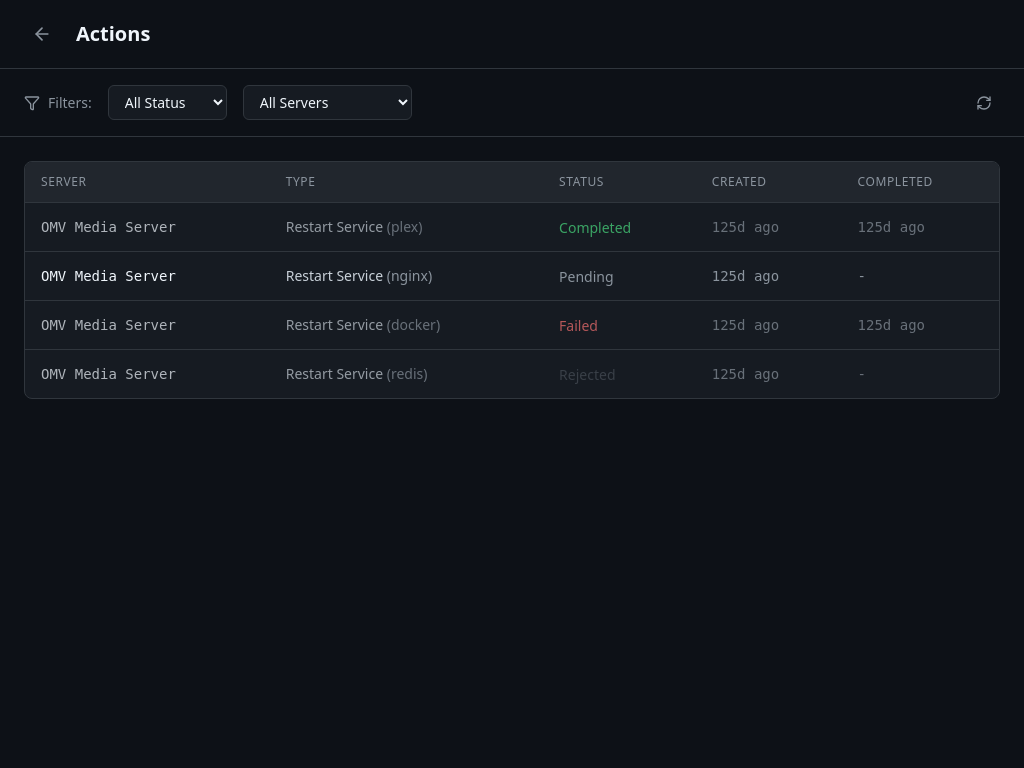
Scenario: ActionsPage › Action detail panel (TC178) › opens detail panel when clicking action row
What coordinates should you click on to do the following:
click the row with test id "action-row-1"
I would click on:
 (512, 227)
Its box is [25,202,999,252].
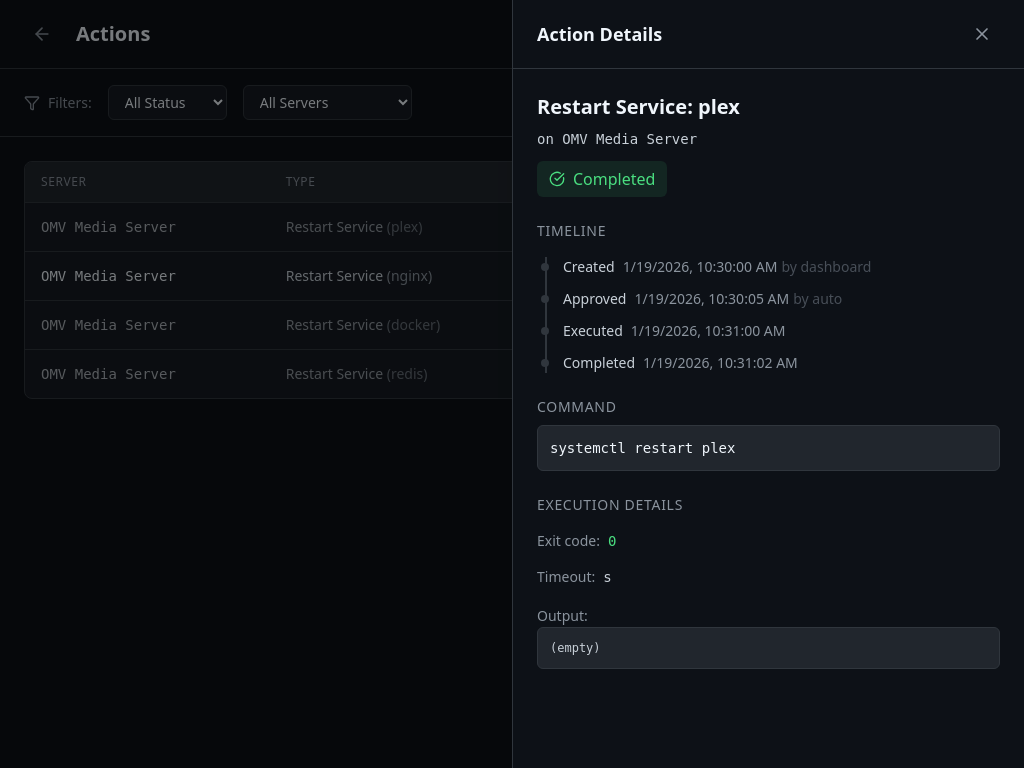
Now the element with test id "action-detail-panel" is shown, box [512,0,1023,767]
